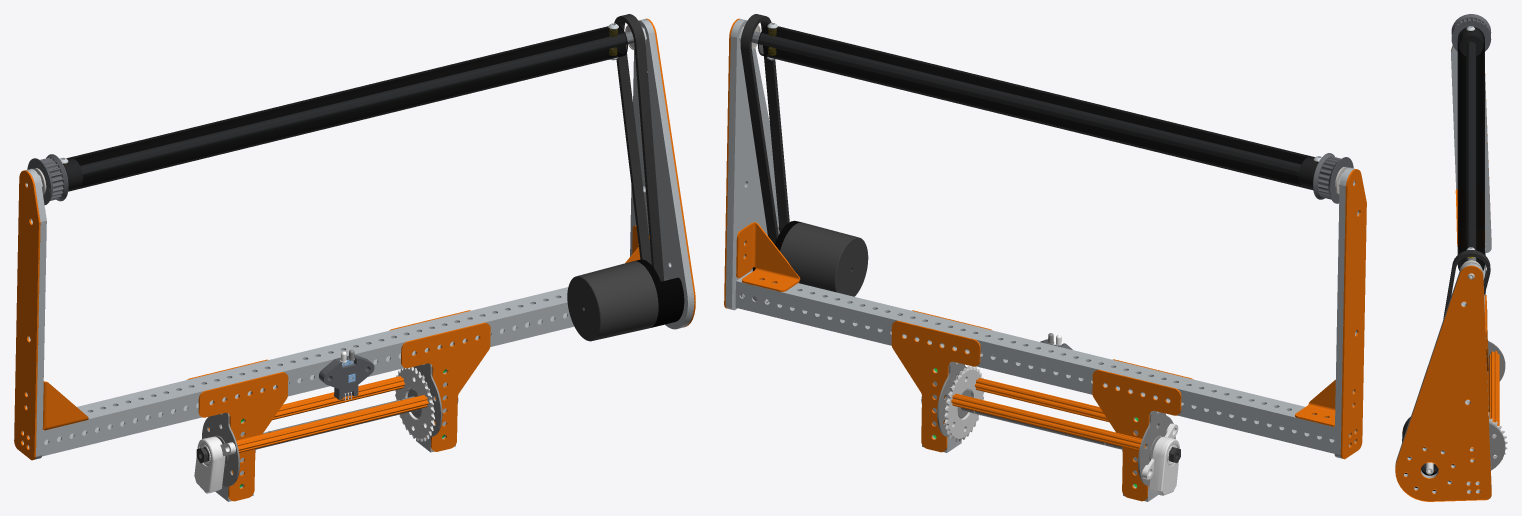
3 views of the same model, side by side, from view 1: azimuth 30°, elevation 25°; view 2: azimuth 150°, elevation 25°; view 3: azimuth 270°, elevation 25° (orthographic). The views are drawn at different scales.
Visible parts, largest first — view 1: Pivot Shaft; view 2: Pivot Shaft; view 3: Pivot Shaft.
Boxes of the visible parts, <box> form: Pivot Shaft: <box>14,14,695,501</box>; Pivot Shaft: <box>724,14,1366,501</box>; Pivot Shaft: <box>1395,14,1507,501</box>.
Bounding box in the file's own units: 0.6271 × 0.3685 × 0.1187.
